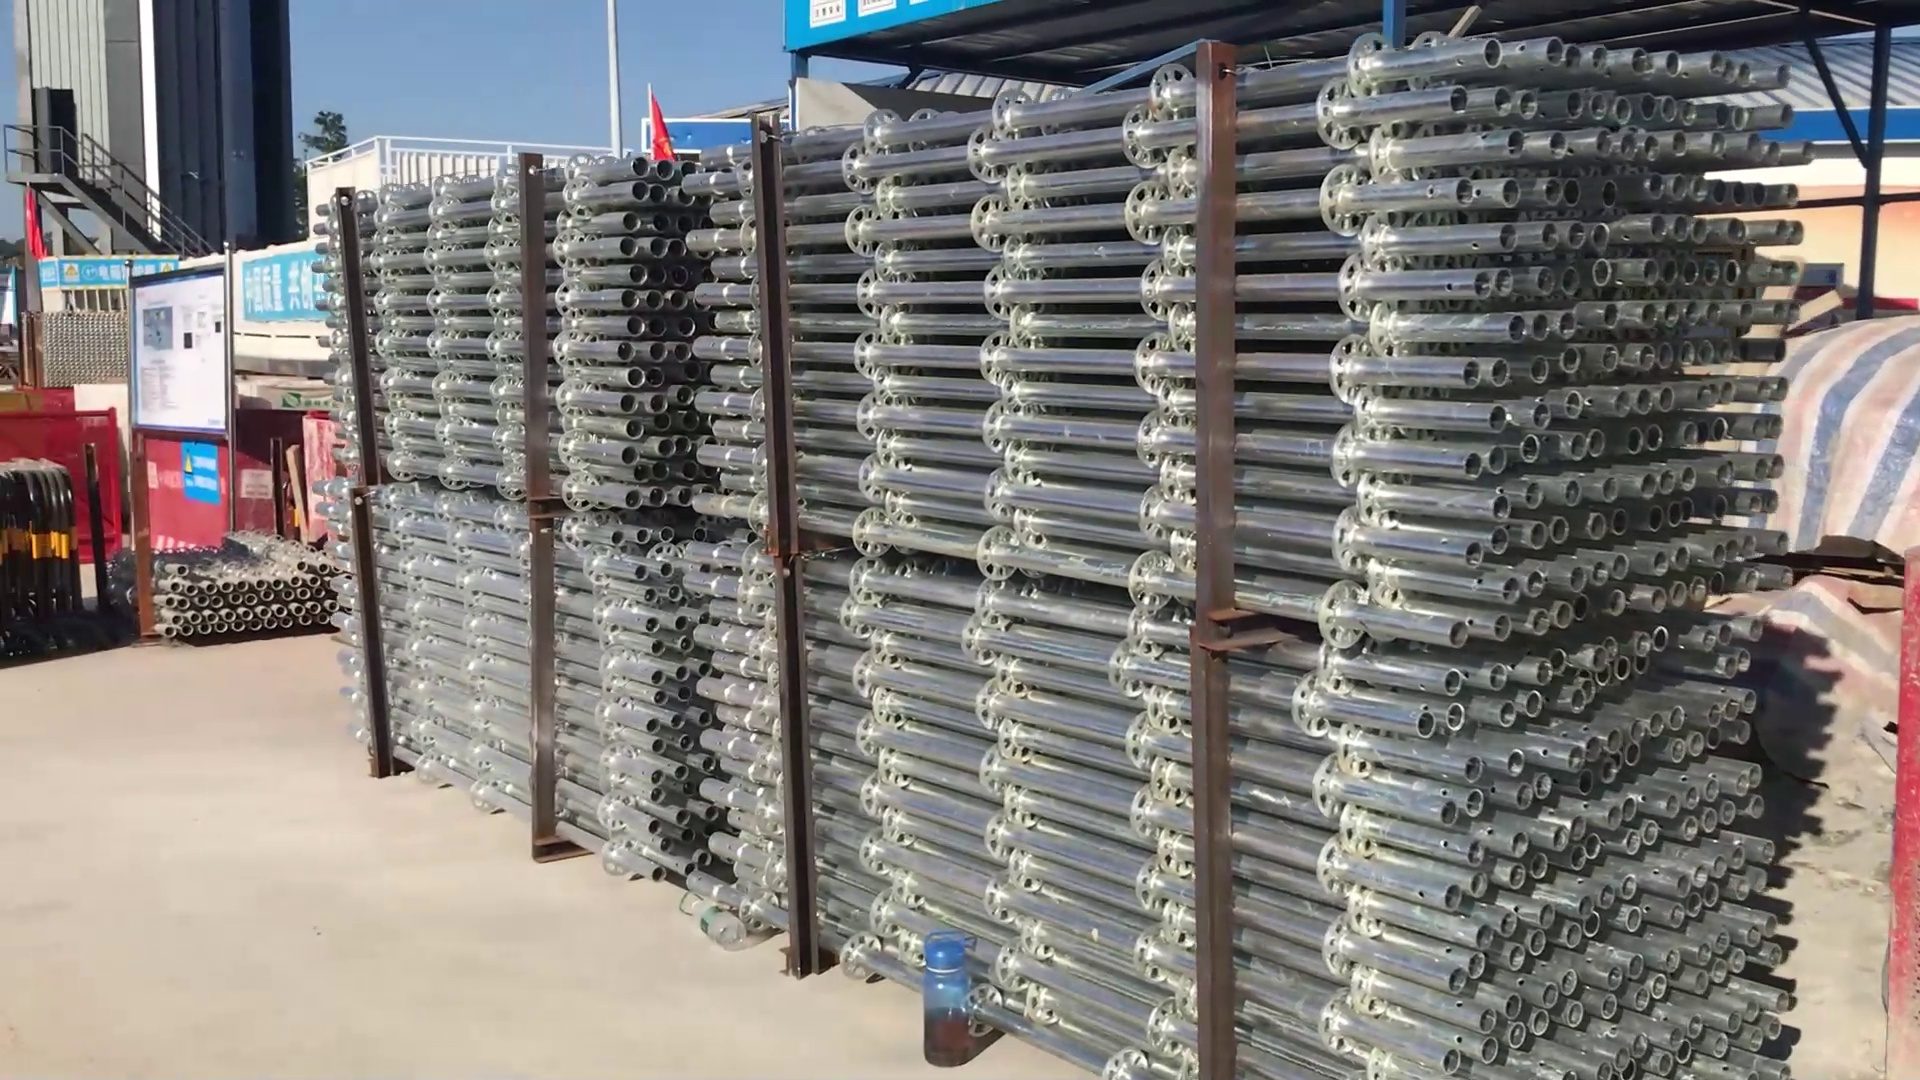fence: (1, 458, 94, 658)
scaffold: (742, 45, 1791, 1080), (305, 137, 708, 884), (140, 524, 315, 642)
slogan: (243, 261, 316, 314), (178, 448, 222, 504)
